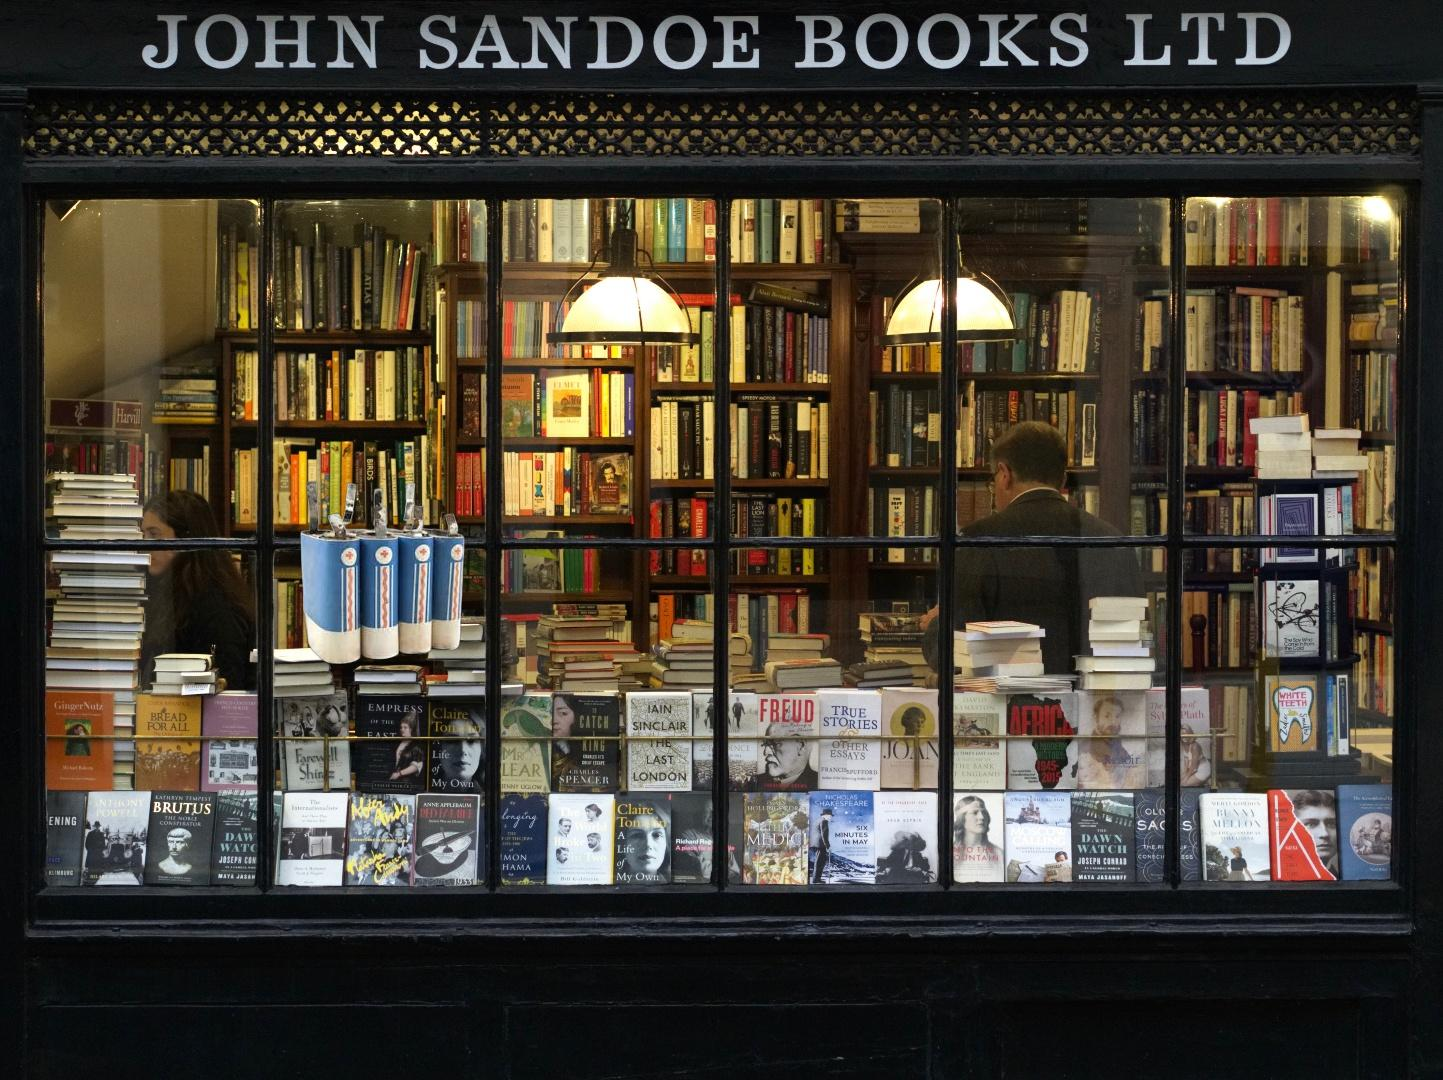battery: (297, 478, 469, 667)
